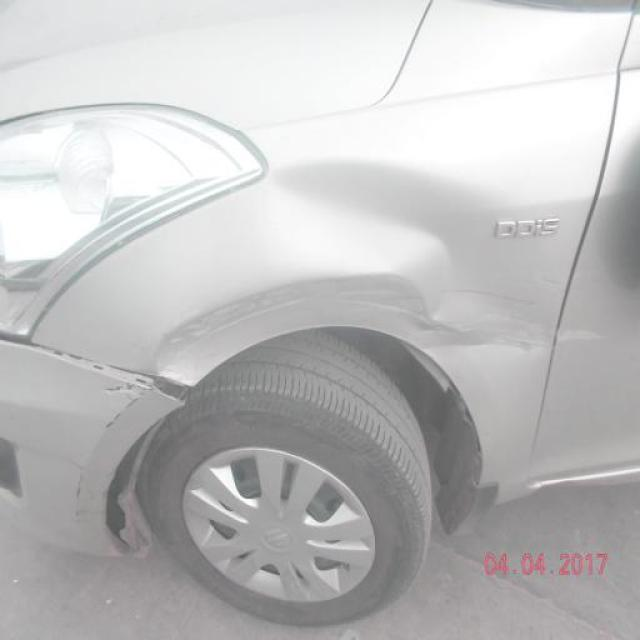car damage: (270, 160, 553, 359), (154, 266, 435, 388), (0, 330, 201, 410), (100, 380, 152, 433), (64, 455, 93, 532)
